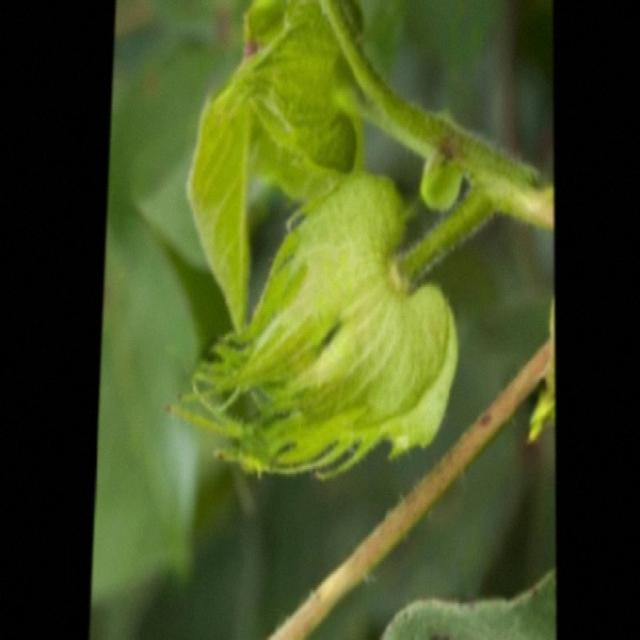Cotton Bud: (171, 175, 455, 469)
